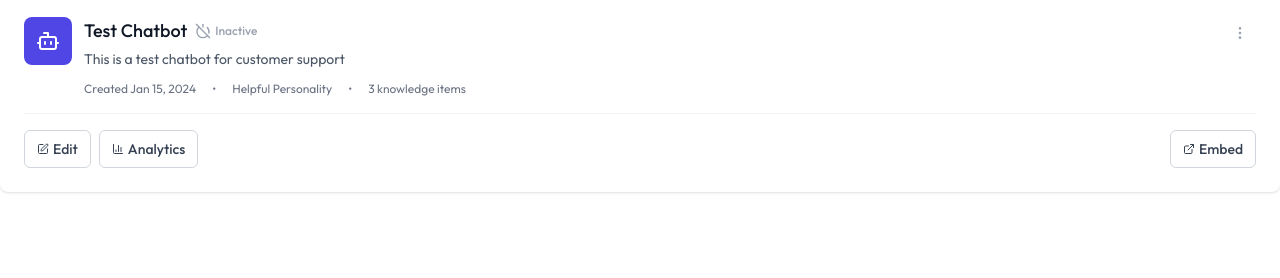
Scenario: ChatbotCard › Dropdown Menu › shows Activate option for inactive chatbots
Click the button named "more options" at (1240, 33), box [1224,17,1256,49]
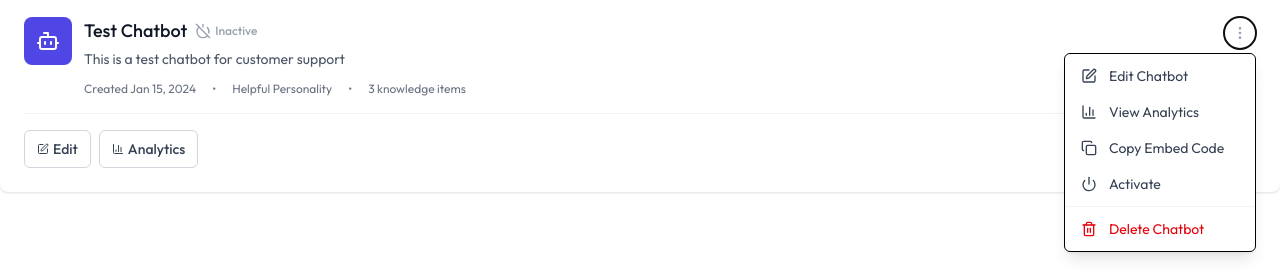
expect the button "Activate" is shown: met, box [1065,166,1255,202]
